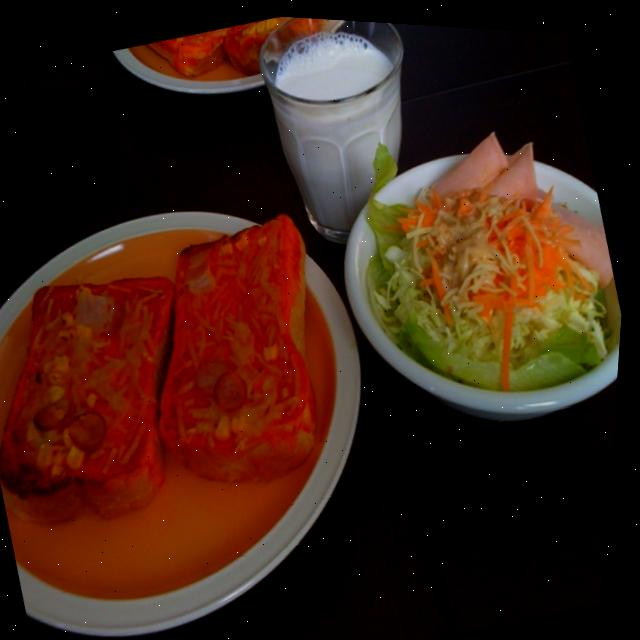蔬菜料理: (313, 95, 636, 450)
面包点心: (0, 185, 380, 559)
